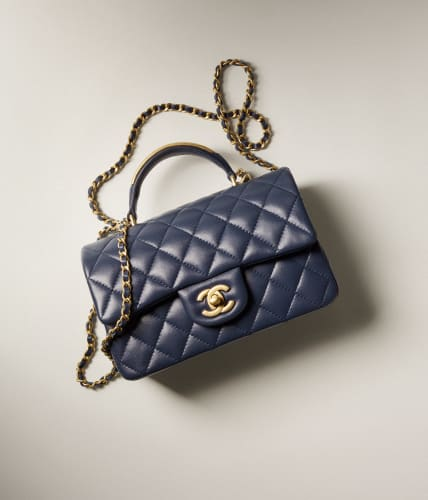channel: (61, 195, 344, 382), (182, 281, 243, 327), (111, 229, 134, 330)
